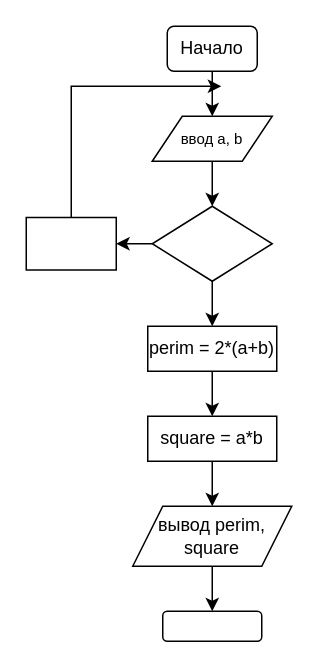
This 318x668 diagram has some shape labels left out. Here are the shapes that lost their labels. From the top down, the centre of each, then its label:
At point 70,243: "введите a и b > 0".
At point 211,243: "a && b > 0?".
At point 211,625: "конец".
